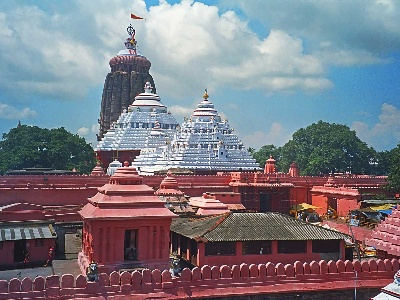amalaka: (94, 50, 170, 72)
